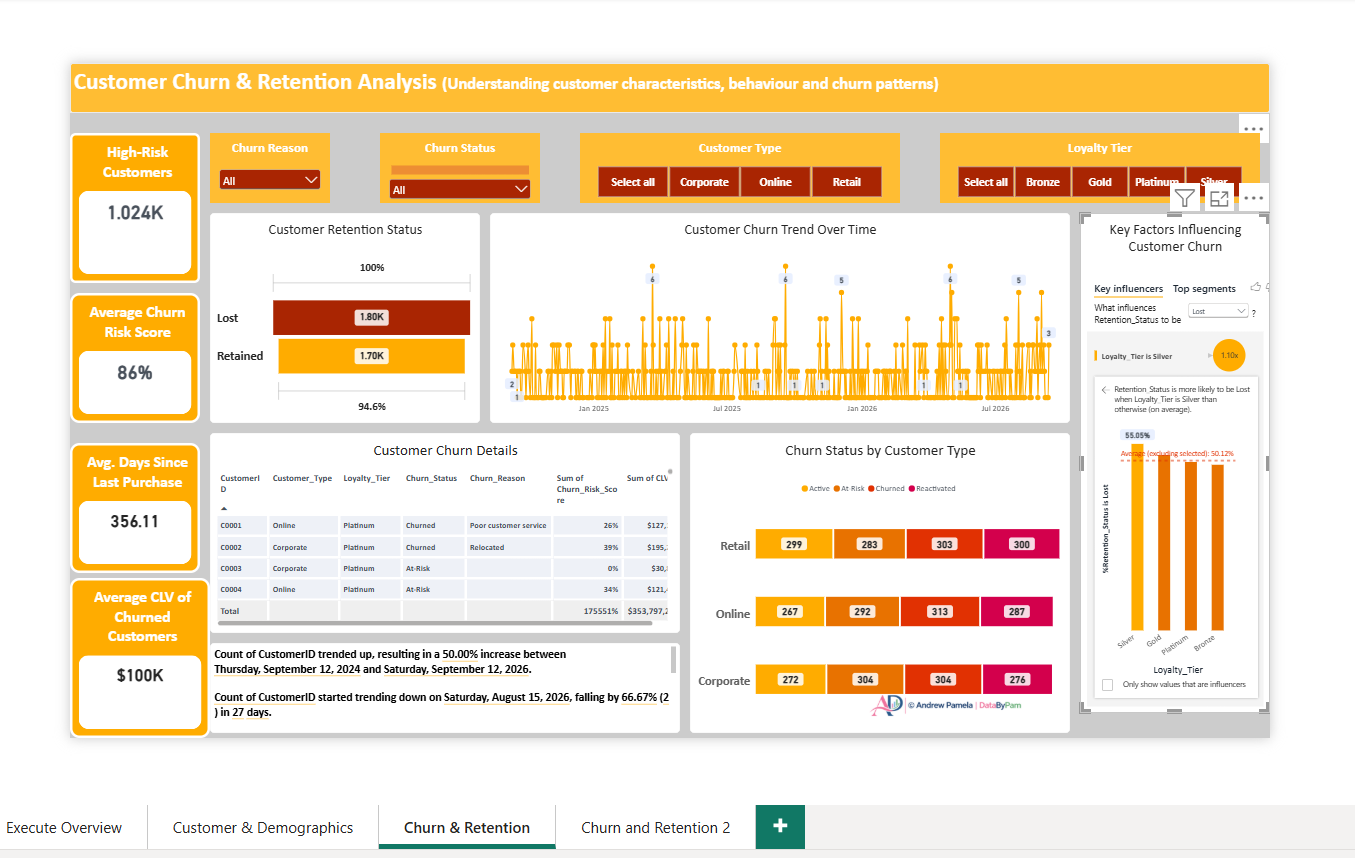

The dashboard page shown, as its layout file describes it:
{"tool":"powerbi","page":{"name":"Churn & Retention","canvas":[1920,1080],"ordinal":2},"visuals":[{"type":"textbox","box":[0,0,1920,80],"z":0},{"type":"funnel","title":"Customer Retention Status","fields":{"Category":["customers.Retention_Status"],"Y":["Count(customers.CustomerID)"]},"box":[224,240,432,336],"z":1000},{"type":"keyDriversVisual","title":"Key Factors Influencing Customer Churn","fields":{"Target":["customers.Retention_Status"],"ExplainBy":["customers.Age_Group","customers.Customer_Type","customers.Loyalty_Tier","Sum(customers.Customer_Engagement_Score)","customers.Days_Since_Last_Purchase.Variation.Date Hierarchy.Year"]},"box":[1616,240,304,800],"z":2000},{"type":"lineChart","title":"Customer Churn Trend Over Time","fields":{"Category":["customers.Churn_Date"],"Y":["Count(customers.CustomerID)"]},"box":[672,240,928,336],"z":3000},{"type":"barChart","title":"Churn Status by Customer Type","fields":{"Category":["customers.Customer_Type"],"Y":["CountNonNull(customers.CustomerID)"],"Series":["customers.Churn_Status"]},"box":[992,592,608,480],"z":4000},{"type":"tableEx","title":"Customer Churn Details","fields":{"Values":["customers.CustomerID","customers.Customer_Type","customers.Loyalty_Tier","customers.Churn_Status","customers.Churn_Reason","Sum(customers.Churn_Risk_Score)","Sum(customers.CLV)"]},"box":[224,592,752,320],"z":5000},{"type":"cardVisual","title":"High-Risk Customers","fields":{"Data":["Count(customers.CustomerID)"]},"box":[0,112,208,240],"z":6000},{"type":"cardVisual","title":"Average Churn Risk Score","fields":{"Data":["Avg(customers.Churn_Risk_Score)"]},"box":[0,368,208,208],"z":7000},{"type":"cardVisual","title":"Avg. Days Since Last Purchase","fields":{"Data":["Avg(customers.Days_Since_Last_Purchase)"]},"box":[0,608,208,208],"z":8000},{"type":"cardVisual","title":"Average CLV of Churned Customers","fields":{"Data":["Avg(customers.CLV)"]},"box":[0,824,224,256],"z":9000},{"type":"slicer","title":"Churn Status","fields":{"Values":["customers.Churn_Status"]},"box":[496,112,256,112],"z":10000},{"type":"slicer","title":"Churn Reason","fields":{"Values":["customers.Churn_Reason"]},"box":[224,112,192,112],"z":11000},{"type":"slicer","title":"Customer Type","fields":{"Values":["customers.Customer_Type"]},"box":[816,112,512,112],"z":12000},{"type":"slicer","title":"Loyalty Tier","fields":{"Values":["customers.Loyalty_Tier"]},"box":[1392,112,512,112],"z":13000},{"type":"textbox","box":[224,928,752,144],"z":14000},{"type":"image","box":[1200,984,400,96],"z":15000}]}

Visuals, with their boxes on the page's 1920x1080 design canvas (x1, y1, x2, y2). These are canvas units, not pixel positions in the 1355x858 screenshot, which may show the page scaled, cropped or inside an application window:
textbox: box(0, 0, 1920, 80)
"Customer Retention Status" funnel: box(224, 240, 656, 576)
"Key Factors Influencing Customer Churn" keyDriversVisual: box(1616, 240, 1920, 1040)
"Customer Churn Trend Over Time" lineChart: box(672, 240, 1600, 576)
"Churn Status by Customer Type" barChart: box(992, 592, 1600, 1072)
"Customer Churn Details" tableEx: box(224, 592, 976, 912)
"High-Risk Customers" cardVisual: box(0, 112, 208, 352)
"Average Churn Risk Score" cardVisual: box(0, 368, 208, 576)
"Avg. Days Since Last Purchase" cardVisual: box(0, 608, 208, 816)
"Average CLV of Churned Customers" cardVisual: box(0, 824, 224, 1080)
"Churn Status" slicer: box(496, 112, 752, 224)
"Churn Reason" slicer: box(224, 112, 416, 224)
"Customer Type" slicer: box(816, 112, 1328, 224)
"Loyalty Tier" slicer: box(1392, 112, 1904, 224)
textbox: box(224, 928, 976, 1072)
image: box(1200, 984, 1600, 1080)
